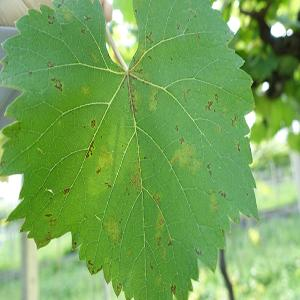Folha: (0, 0, 259, 298)
Fungo: (169, 136, 203, 176), (121, 67, 141, 117), (102, 213, 122, 247), (148, 79, 160, 117), (97, 149, 114, 173), (59, 2, 75, 25), (128, 166, 142, 192), (209, 188, 219, 213), (51, 76, 63, 92), (136, 40, 146, 59), (80, 82, 90, 99), (85, 140, 94, 158), (182, 87, 191, 103), (152, 190, 161, 205), (90, 50, 99, 64), (145, 30, 153, 44), (204, 99, 212, 111), (47, 12, 55, 24), (206, 162, 212, 176), (234, 138, 240, 152), (194, 246, 202, 256), (49, 216, 57, 226), (37, 146, 45, 156), (231, 113, 237, 126), (218, 189, 226, 198), (170, 283, 176, 295), (90, 118, 96, 128), (156, 236, 162, 246), (83, 14, 91, 21), (46, 61, 53, 68), (63, 187, 70, 194), (104, 181, 111, 188), (178, 136, 184, 144), (44, 212, 52, 218), (214, 92, 218, 103), (95, 167, 101, 174), (215, 125, 221, 132), (80, 27, 85, 35), (195, 31, 200, 39), (149, 261, 153, 269), (176, 22, 180, 30), (174, 124, 178, 131), (28, 70, 32, 77)
